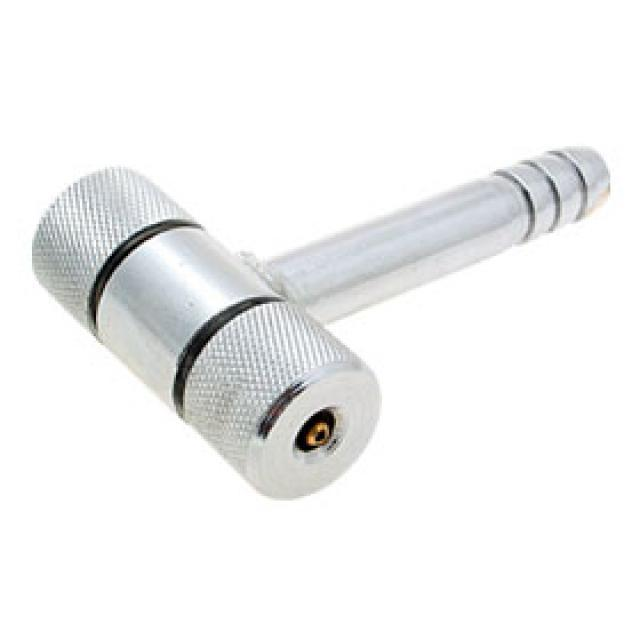hammer: (18, 134, 620, 511)
